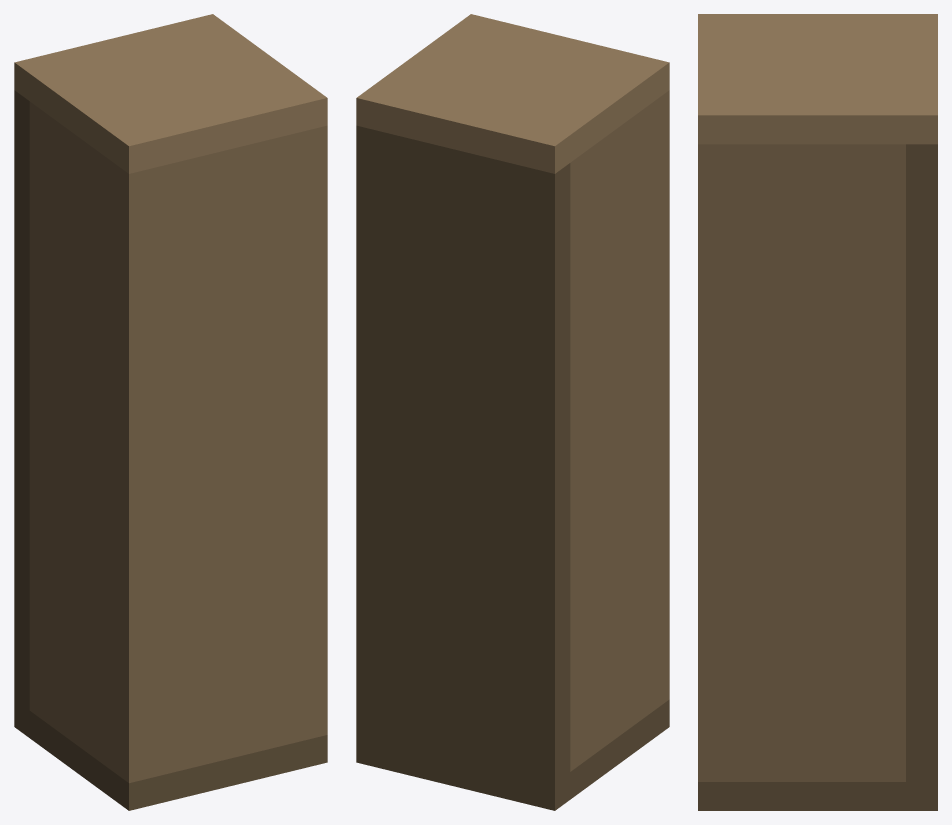
Rendered from estanteria_empotrada_roble_01.glb.
3 views of the same model, side by side, from view 1: azimuth 30°, elevation 25°; view 2: azimuth 150°, elevation 25°; view 3: azimuth 270°, elevation 25° (orthographic). The views are drawn at different scales.
Parts seen in each view (by area): view 1: estanteria_empotrada_roble; view 2: estanteria_empotrada_roble; view 3: estanteria_empotrada_roble.
Boxes of the visible parts, x1,y1,x2,y2 form: estanteria_empotrada_roble: [14, 14, 327, 810]; estanteria_empotrada_roble: [356, 14, 669, 810]; estanteria_empotrada_roble: [698, 14, 937, 810].
Size of the model in its own units: 1 by 3.2 by 1.
